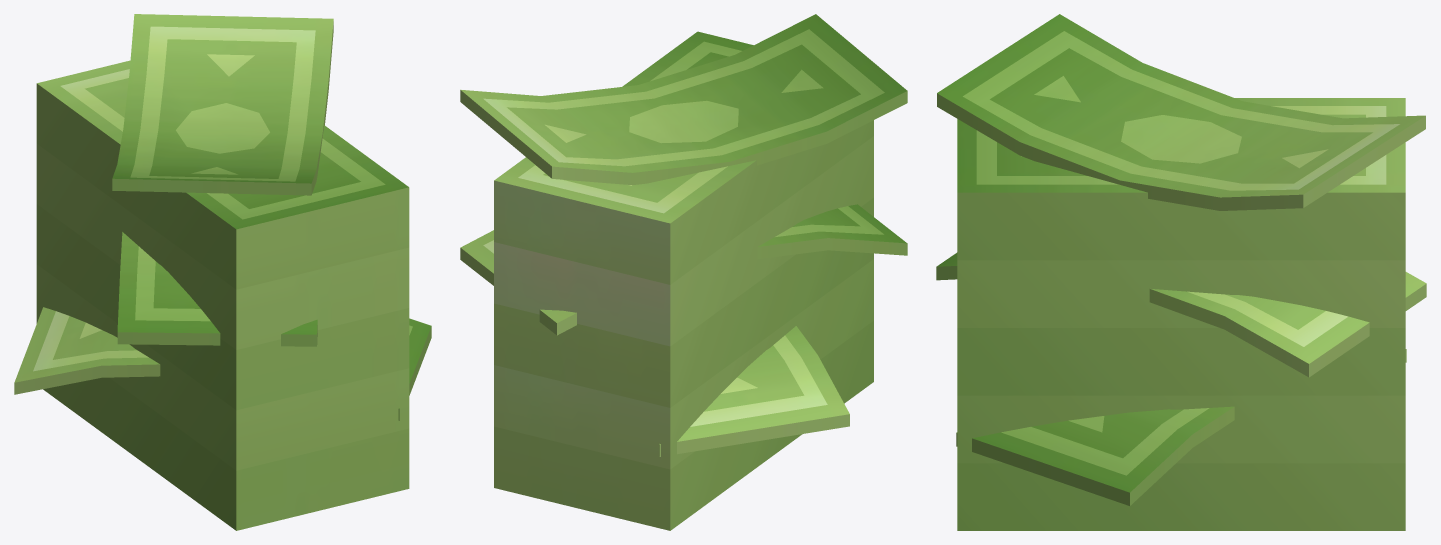
File: money_bills_stack_medium.glb
3 renders of one model, left to right at view 1: azimuth 30°, elevation 25°; view 2: azimuth 150°, elevation 25°; view 3: azimuth 270°, elevation 25°, orthographic. The views are drawn at different scales.
Visible parts, largest first — view 1: Money_Bills_Stack_Medium; view 2: Money_Bills_Stack_Medium; view 3: Money_Bills_Stack_Medium.
Boxes of the visible parts, box(x1,y1,x2,y2) form: Money_Bills_Stack_Medium: box(14, 14, 431, 530); Money_Bills_Stack_Medium: box(460, 14, 907, 530); Money_Bills_Stack_Medium: box(936, 14, 1426, 530).
Bounding box in the file's own units: 0.6445 × 0.5606 × 0.657.
Materials: 1 (1 with a texture image).
